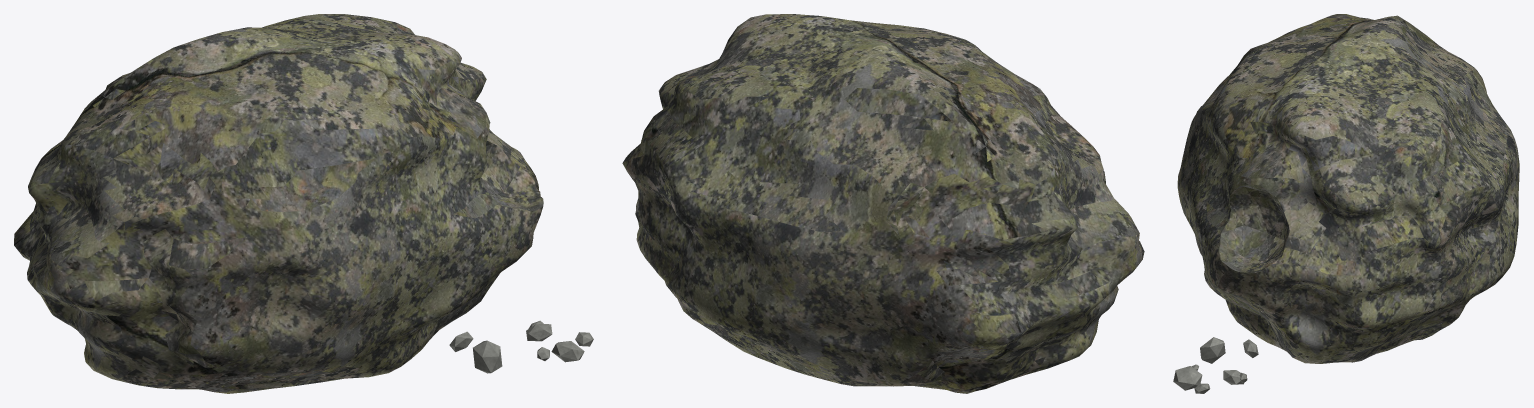
File: mossy_granite_boulder.glb
3 renders of one model, left to right at view 1: azimuth 30°, elevation 25°; view 2: azimuth 150°, elevation 25°; view 3: azimuth 270°, elevation 25°, orthographic. The views are drawn at different scales.
Visible parts, largest first — view 1: sacred_granite_surface, old_granite_fracture_surface; view 2: sacred_granite_surface; view 3: sacred_granite_surface, old_granite_fracture_surface.
Part boxes in pixels (<box>): sacred_granite_surface: <box>14,14,543,393</box>; old_granite_fracture_surface: <box>449,320,593,373</box>; sacred_granite_surface: <box>622,14,1144,393</box>; sacred_granite_surface: <box>1177,14,1519,363</box>; old_granite_fracture_surface: <box>1173,337,1258,393</box>.
Size of the model in its own units: 2.46 by 1.5 by 1.77.
Materials: 2 (2 with a texture image).
